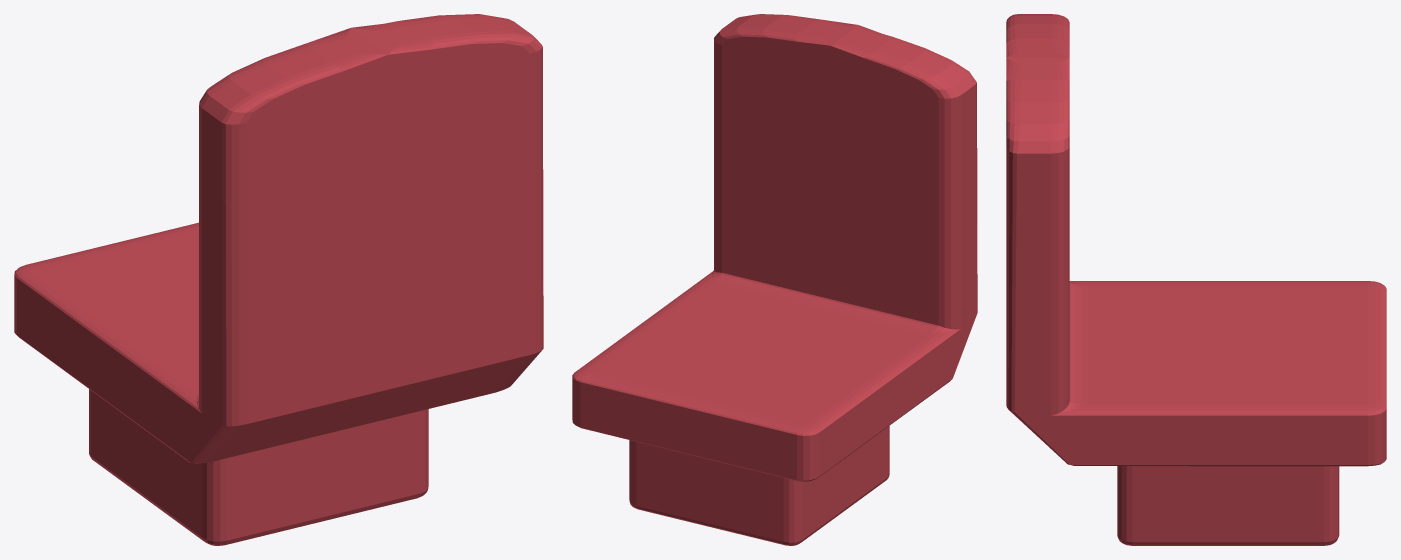
The model's file is Admin-chair.glb.
3 views of the same model, side by side, from view 1: azimuth 30°, elevation 25°; view 2: azimuth 150°, elevation 25°; view 3: azimuth 270°, elevation 25° (orthographic). The views are drawn at different scales.
Visible parts, largest first — view 1: Cube.002; view 2: Cube.002; view 3: Cube.002.
Boxes of the visible parts, x1,y1,x2,y2 form: Cube.002: [14, 14, 543, 545]; Cube.002: [572, 14, 977, 545]; Cube.002: [1006, 14, 1386, 545].
Bounding box in the file's own units: 2 × 3.1 × 2.4.
